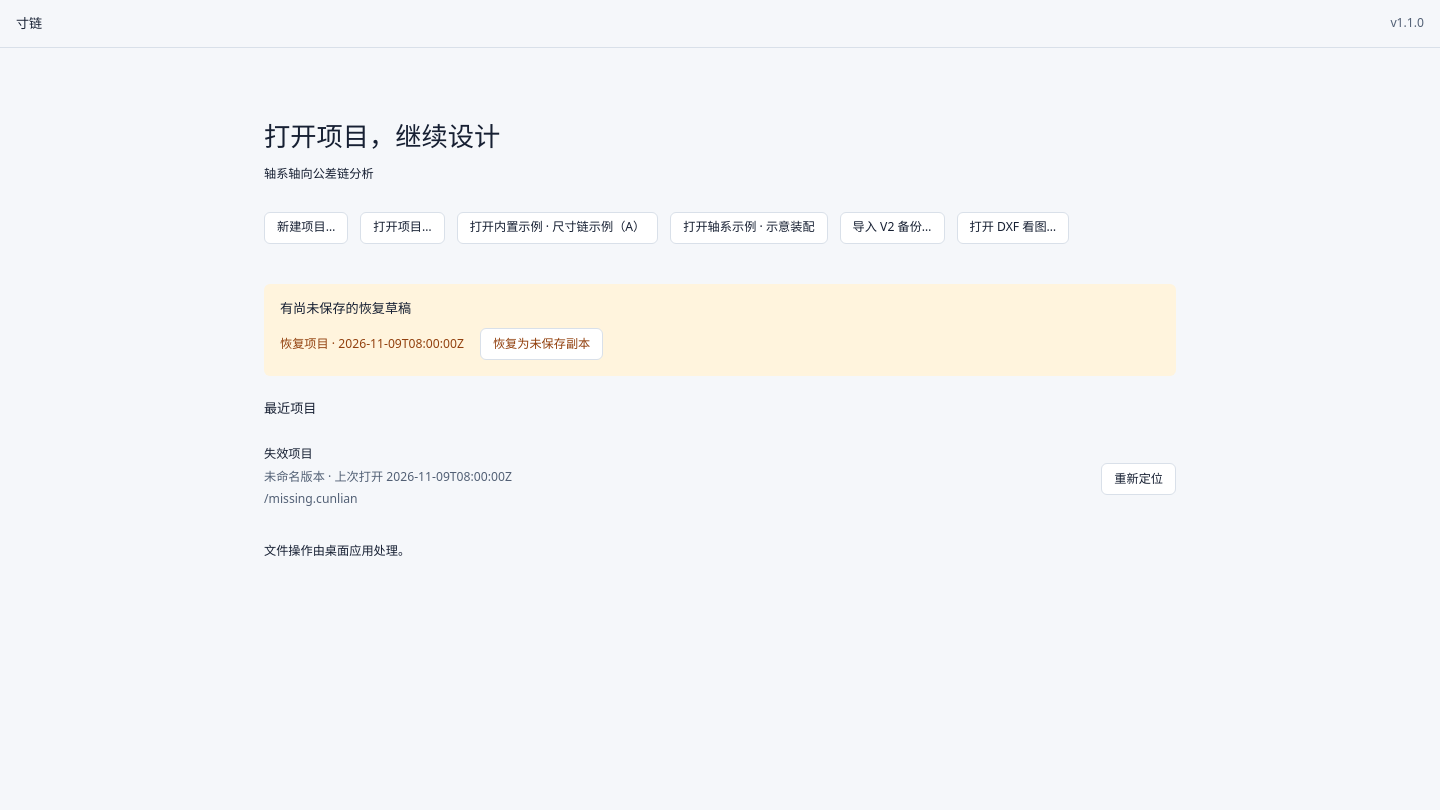
Scenario: A-04b 会话接线 › 菜单 save/saveAs/open/close 真实转交，屏障回复当前会话；失败不更换 UI 快照
Later steps or results of the test are not shown.
Click the button "打开内置示例 · 尺寸链示例（A）". click: (558, 228)
box: [457,212,658,244]
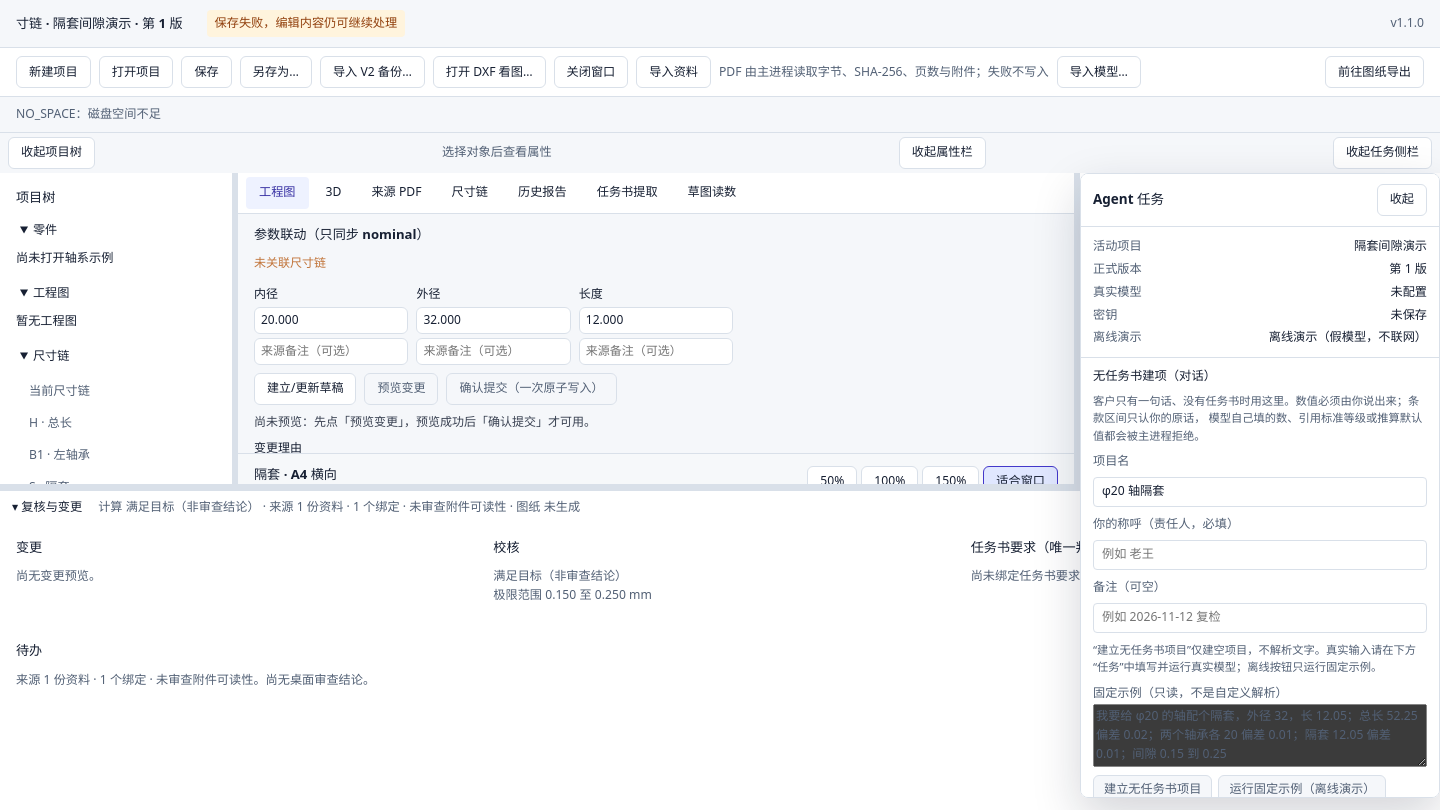
Expected: the button "保存" is enabled, [181,56,232,88]
Expected: the text "保存失败，编辑内容仍可继续处理" is shown, [207,10,405,37]
Expected: the heading "寸链 · 隔套间隙演示 · 第 1 版" is shown, [16,15,183,32]
